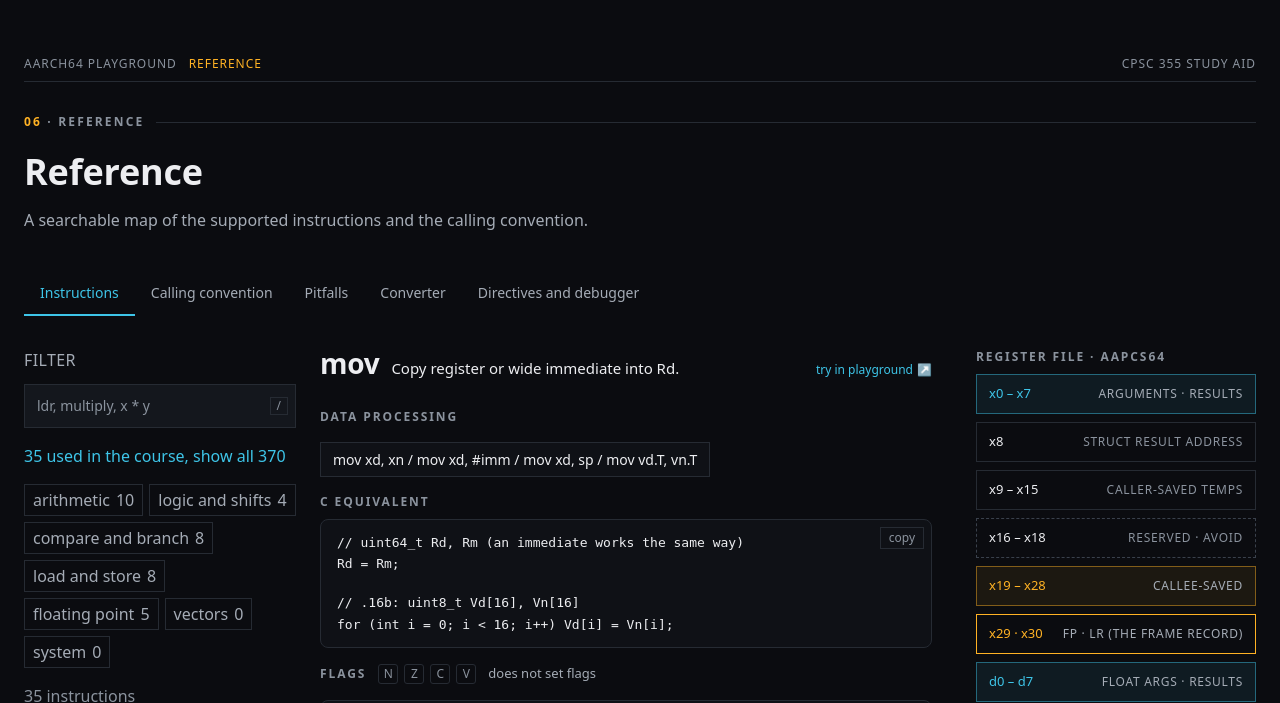
Test case: every route keeps the heading case › /reference, on every tab
Step 1. Click the tab "Calling convention" → click(212, 294), box [135, 272, 288, 316]
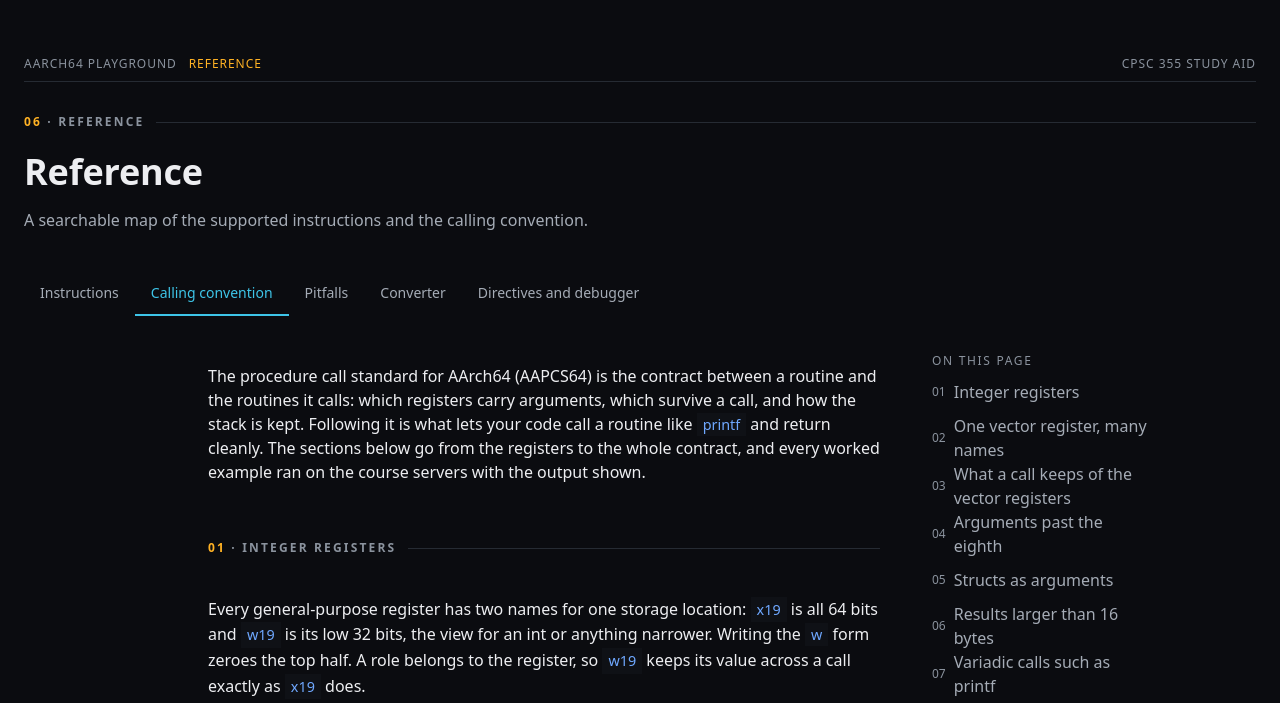
Step 2. Click the tab "Pitfalls" → click(326, 294), box [288, 272, 364, 316]
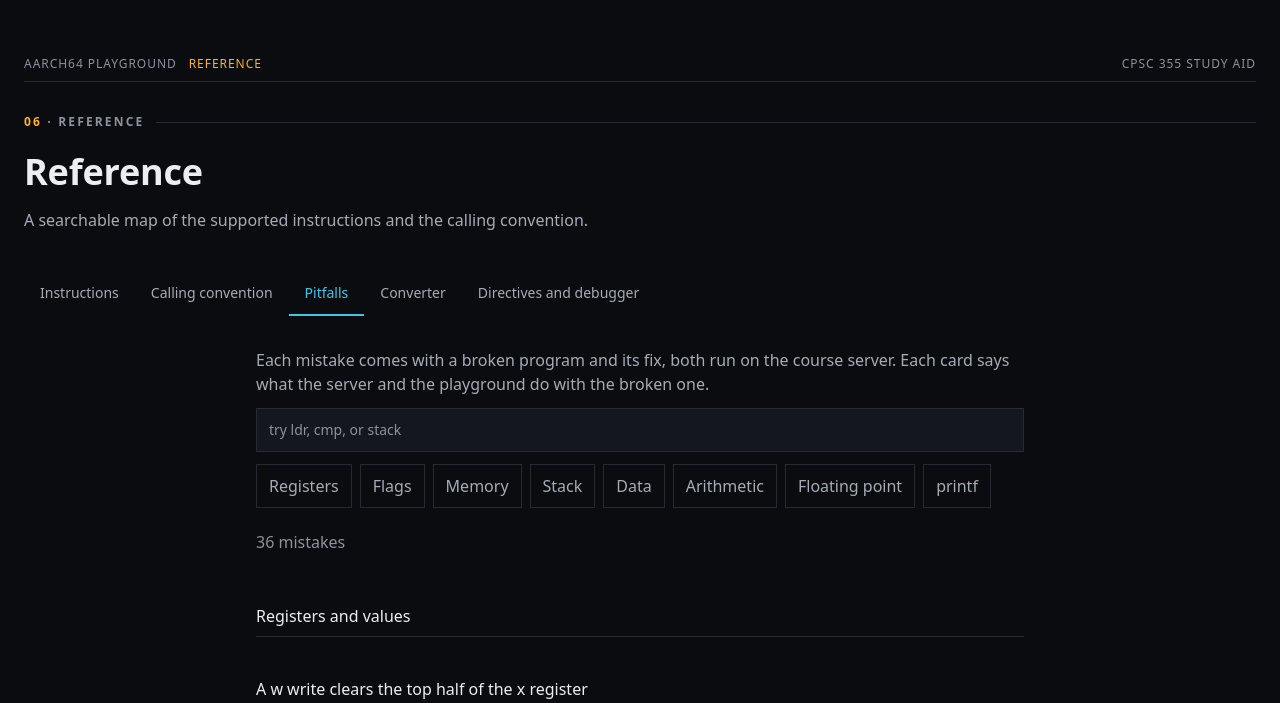
Expected: the heading "Registers and values" is shown, [256, 604, 1024, 637]
Step 3. Click the tab "Converter" → click(413, 294), box [364, 272, 462, 316]
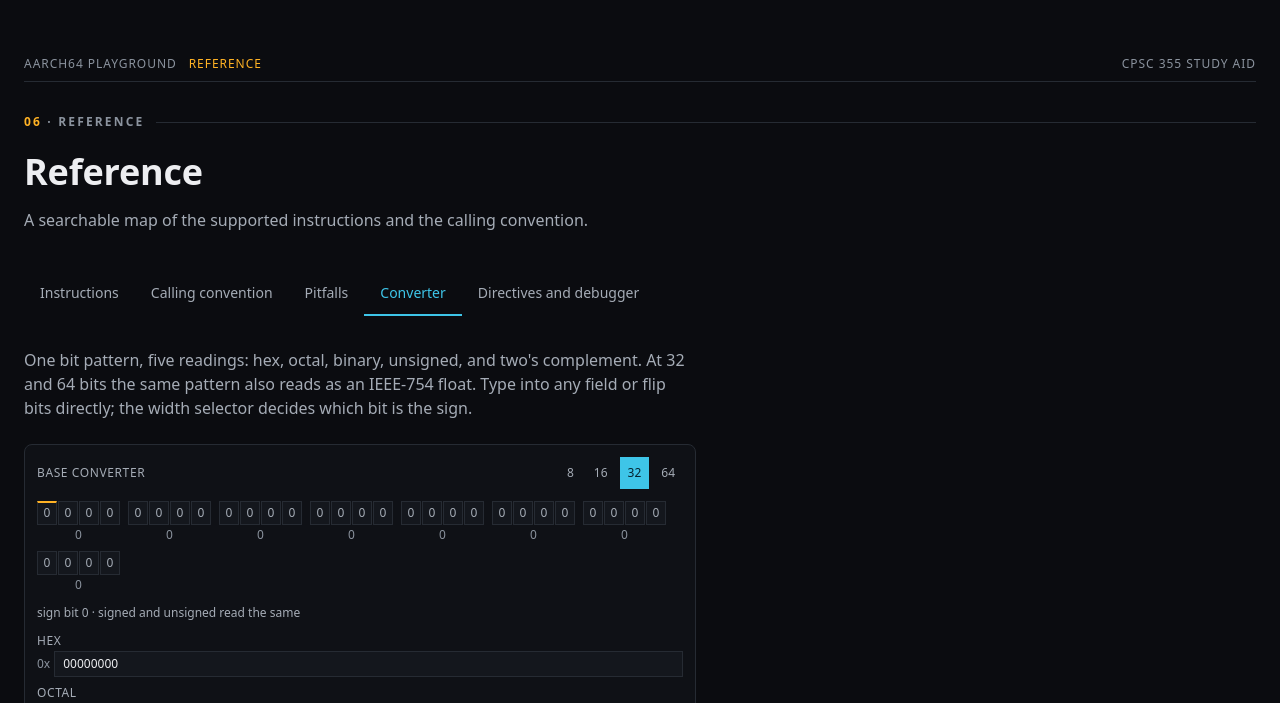
Expected: the heading "base converter" is shown, [37, 465, 145, 481]
